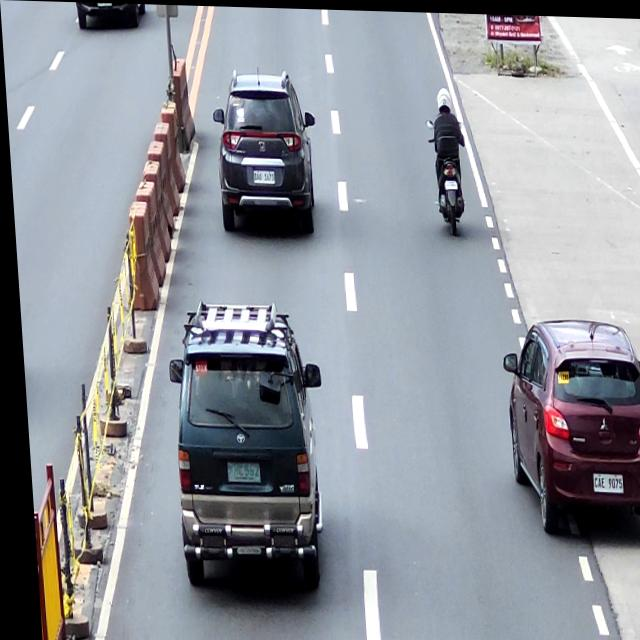Car: (159, 298, 329, 590), (494, 315, 640, 541), (210, 68, 321, 238), (74, 2, 148, 29)
License-Plate: (220, 458, 254, 481), (586, 470, 617, 490), (250, 169, 273, 183), (441, 176, 456, 188)
Motorcycle: (424, 116, 468, 234)
